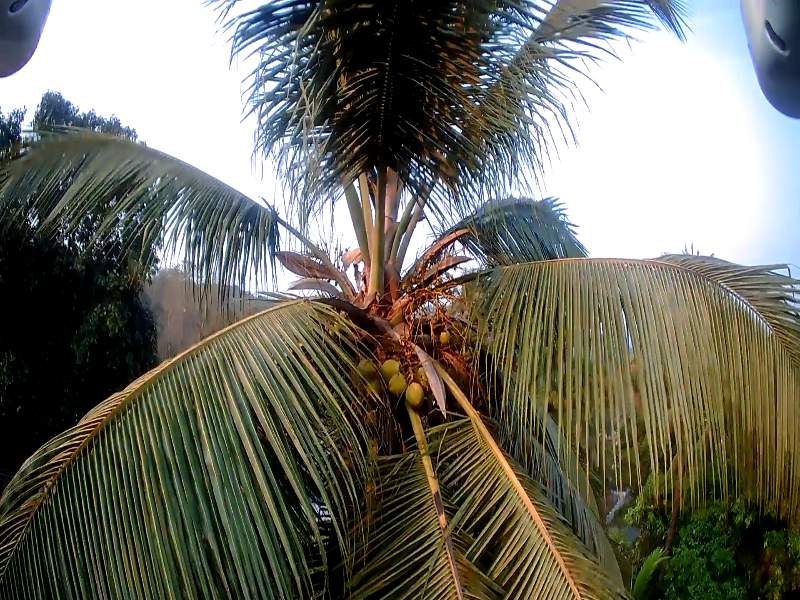coconut: (386, 367, 410, 397), (358, 348, 375, 379), (409, 380, 426, 404), (382, 359, 399, 374), (366, 380, 380, 393), (438, 329, 450, 341)
